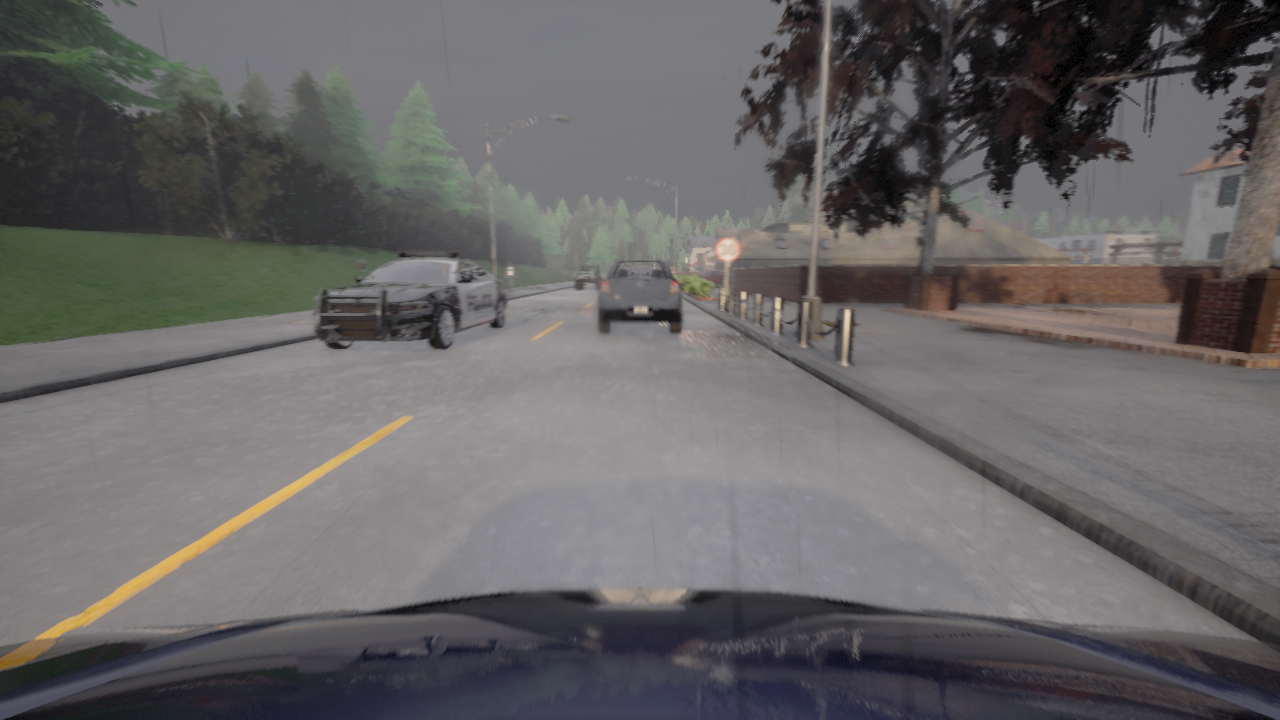cyclist: (0, 588, 1279, 719), (312, 249, 506, 349), (598, 259, 682, 333), (575, 265, 601, 288), (696, 270, 723, 284)
pedestrian: (506, 262, 515, 291)
